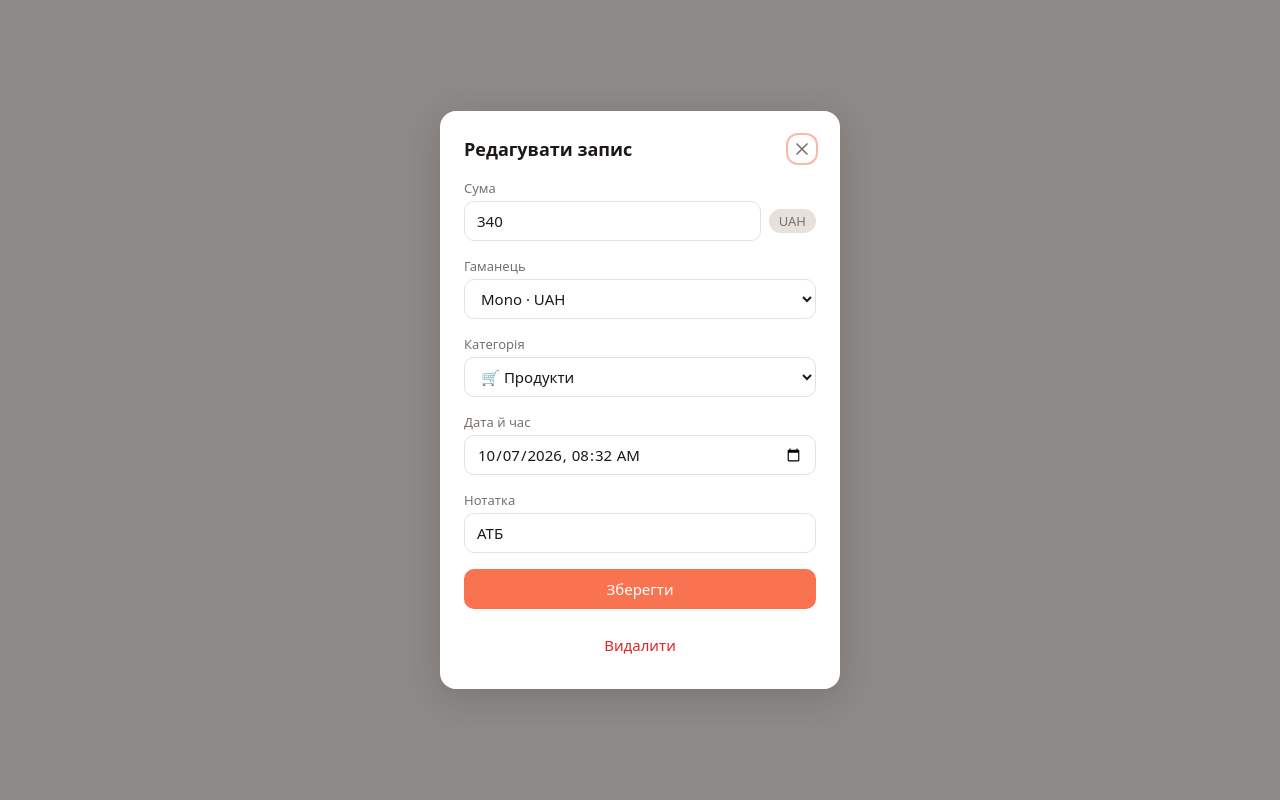
Test: ExpenseEditDialog › shows a server refusal in place
Type "!" into the field labelled "Нотатка" at (640, 533), box [464,513,816,553]
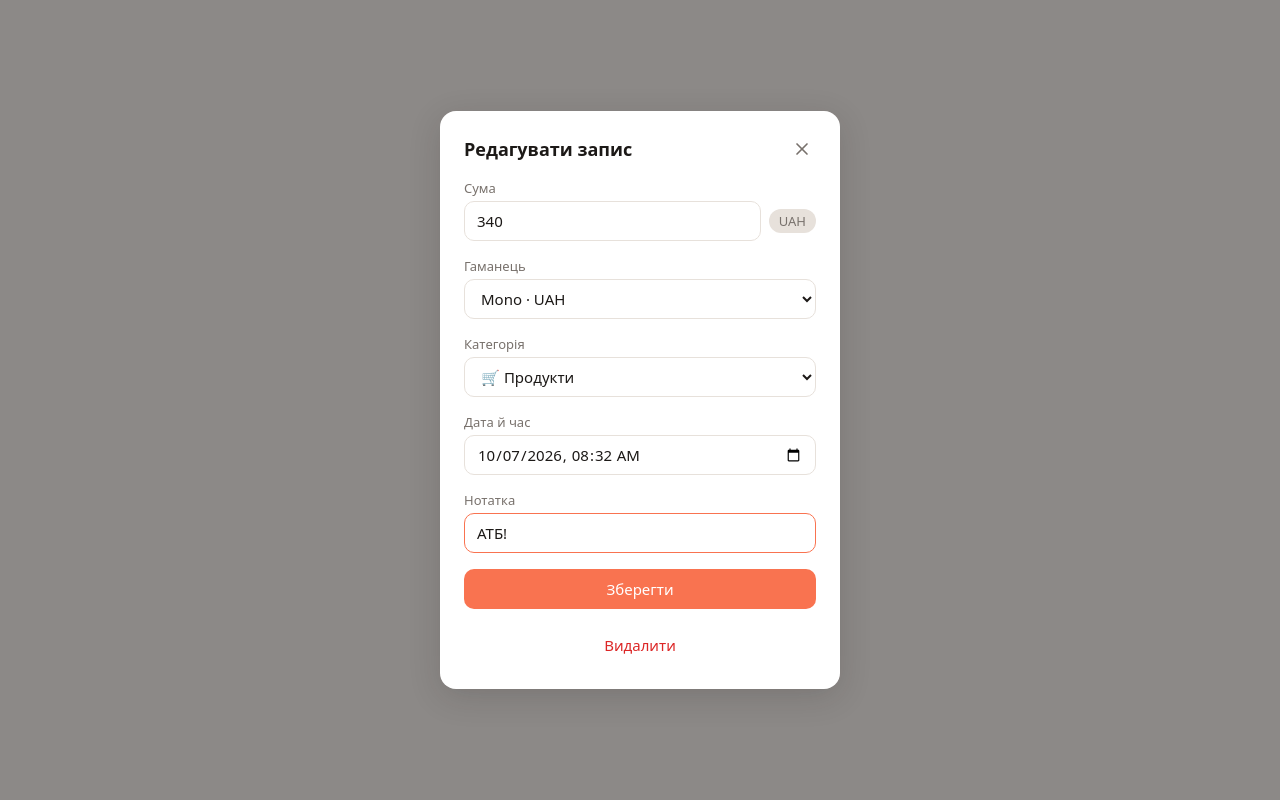
Click the button "Зберегти" at (640, 589), box [464,569,816,609]
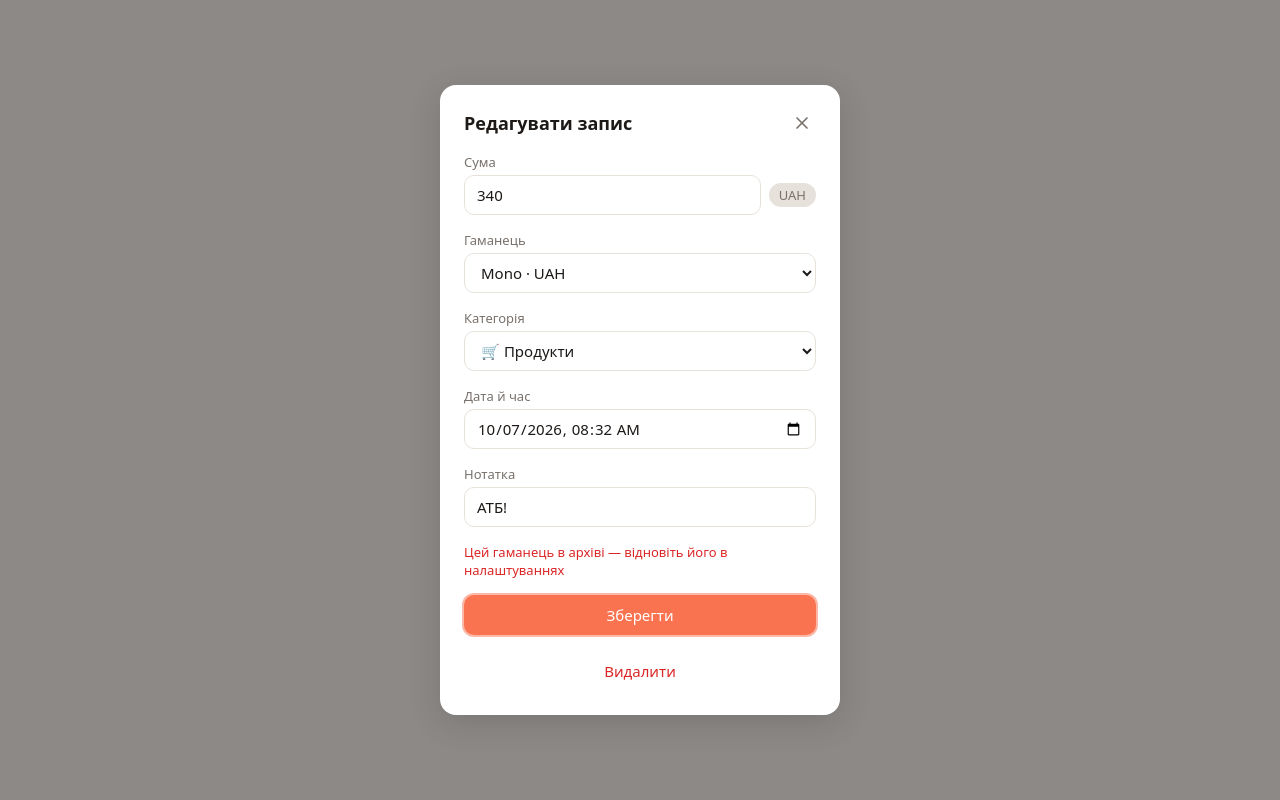
Expected: the message reads "Цей гаманець в архіві — відновіть його в налаштуваннях", [464,543,727,579]
